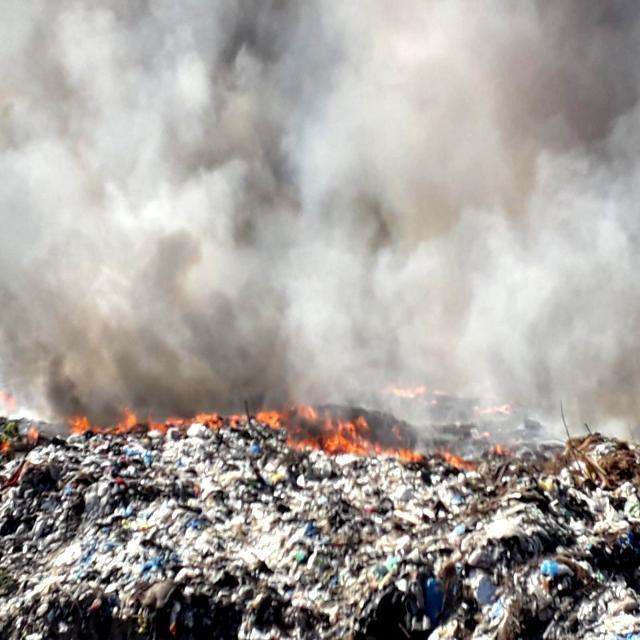Fire: (61, 408, 286, 436), (291, 407, 401, 456)
Smoke: (0, 0, 631, 470)
